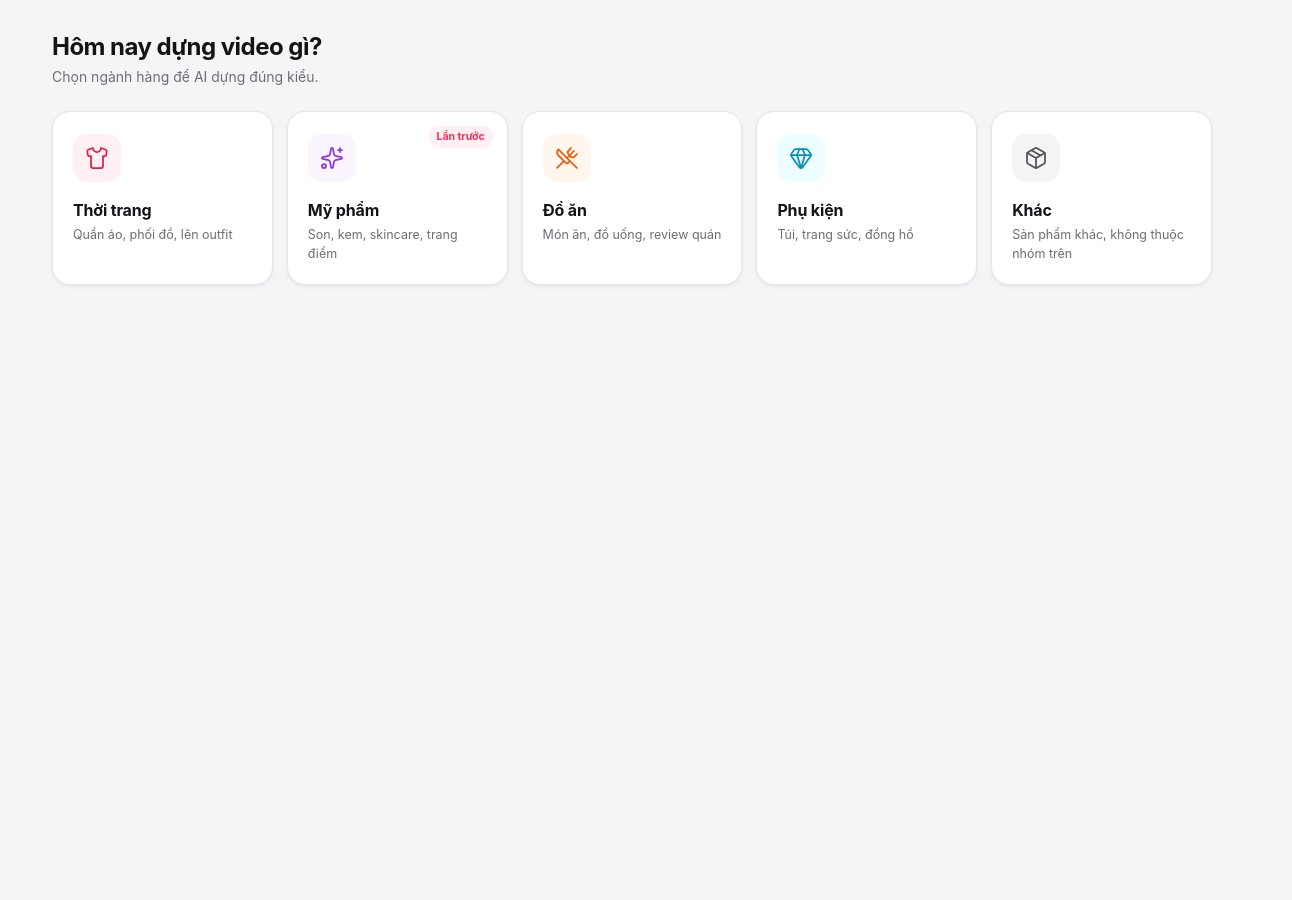
it: marks last niche and saves the picked one
Expected: the heading "Hôm nay dựng video gì?" is shown, [52, 32, 322, 61]
Expected: the text "Lần trước" is shown, [428, 126, 493, 148]
Click the text "Đồ ăn": (565, 210) [543, 200, 587, 220]
(page scrolled)
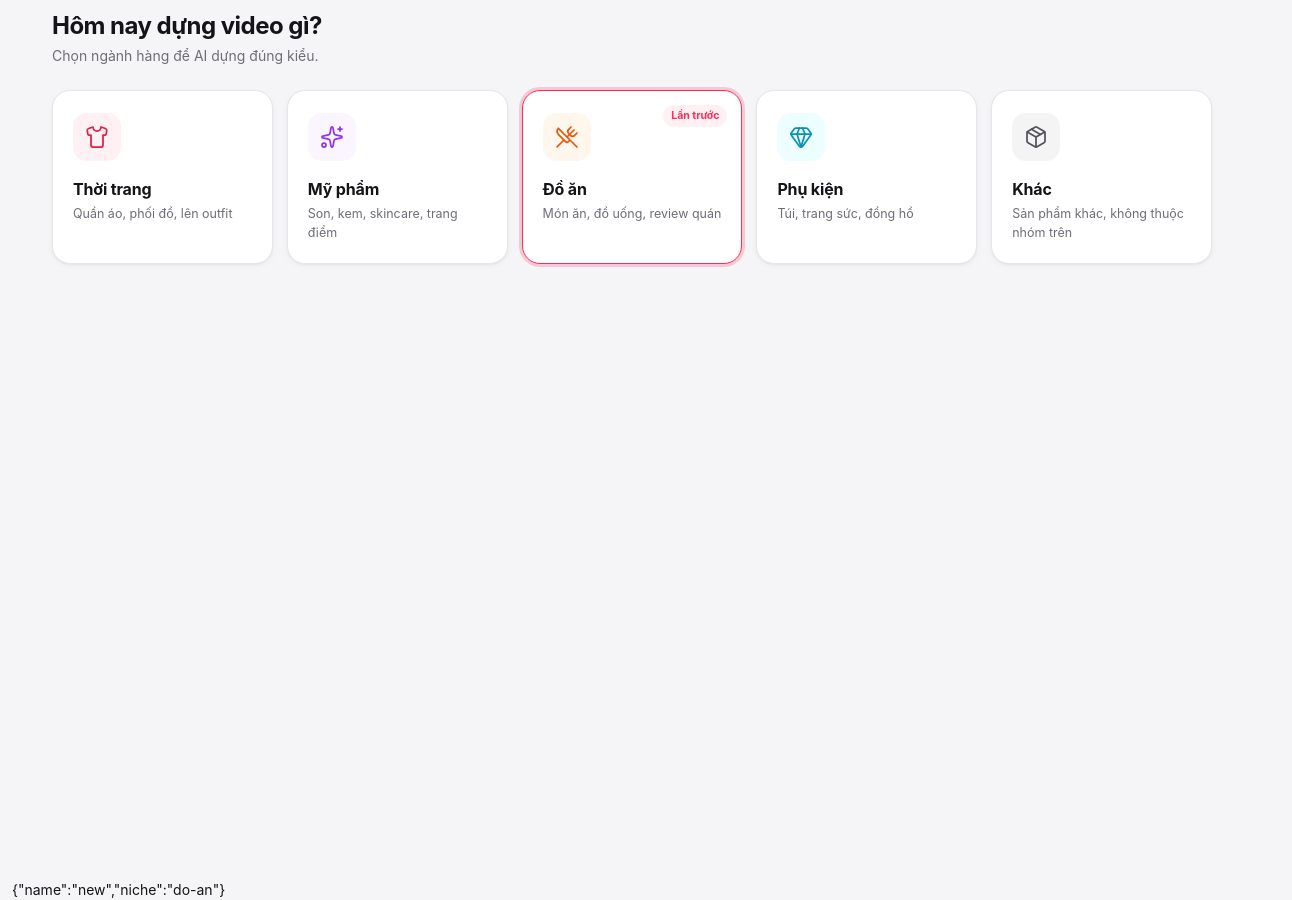
Now the text with test id "r" shows "\"niche\":\"do-an\"", box [12, 881, 225, 898]
